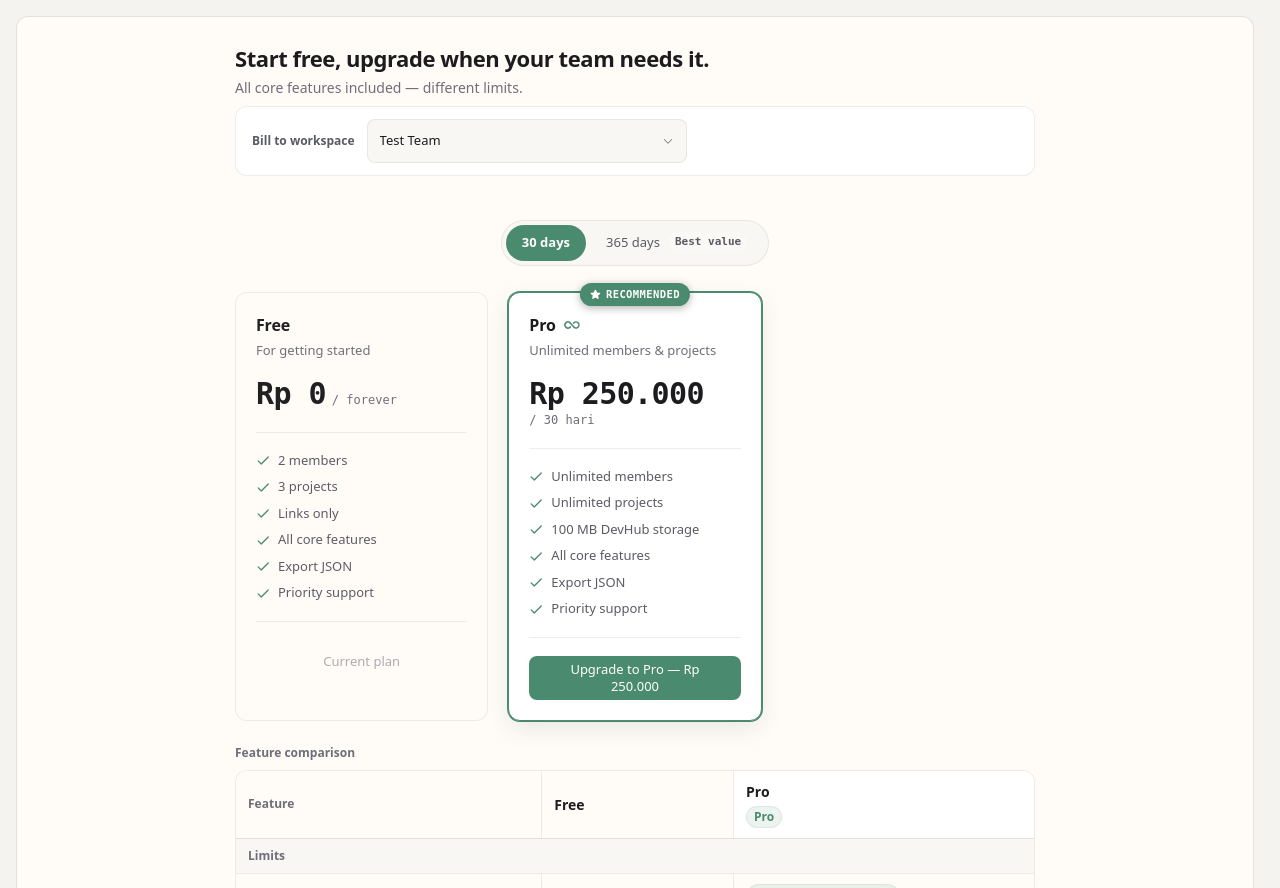
Test case: PricingPage (single-page flow) › creates the order only after confirming in the modal, then redirects
This screenshot has width=1280, height=888.
Expected: the heading "Pro" is shown, [529, 314, 580, 336]
Click the button "Upgrade to Pro — Rp 250.000". click: (635, 678)
box: [529, 656, 741, 700]
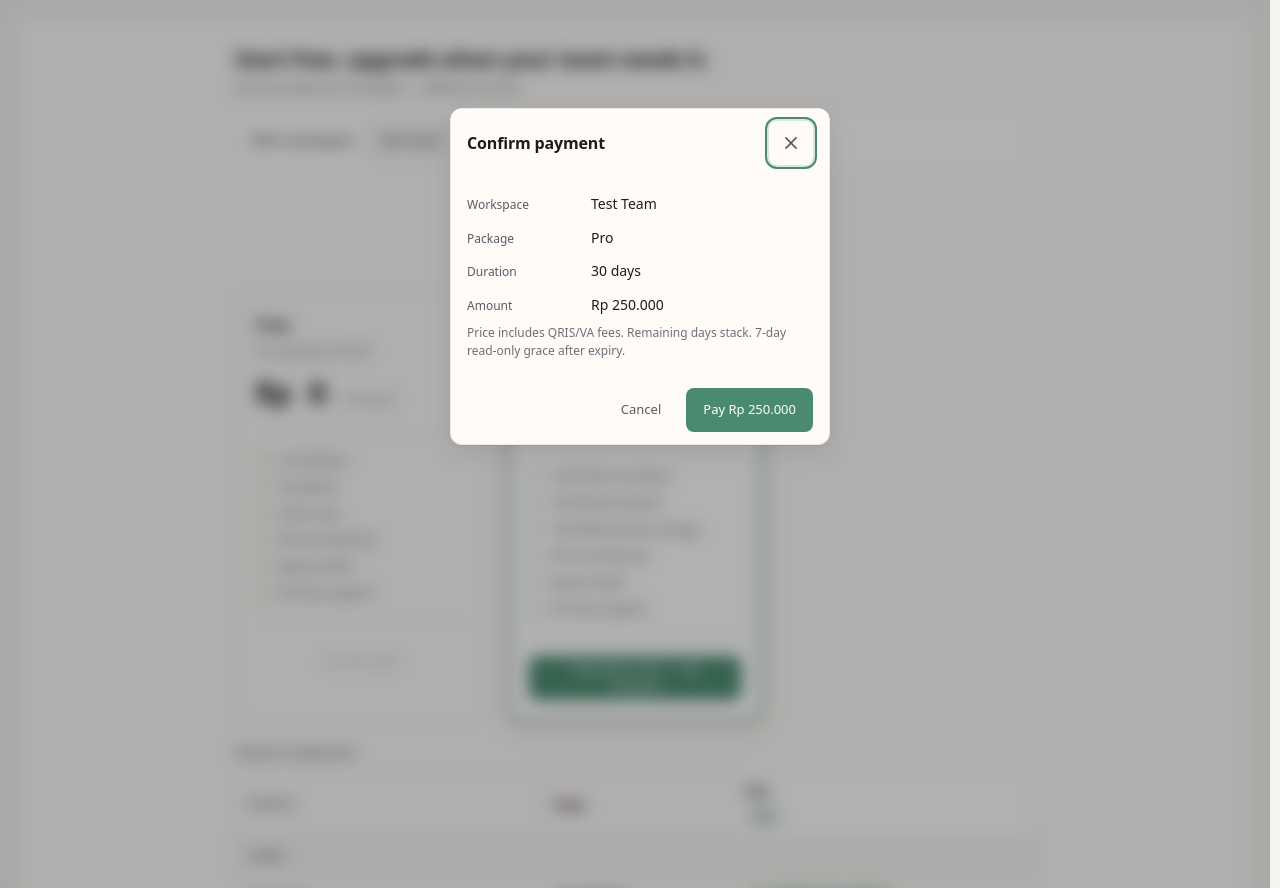
Now the heading "Confirm payment" is shown, box [467, 133, 605, 153]
Click the button "Pay Rp 250.000". click: (750, 410)
box: [686, 388, 813, 432]
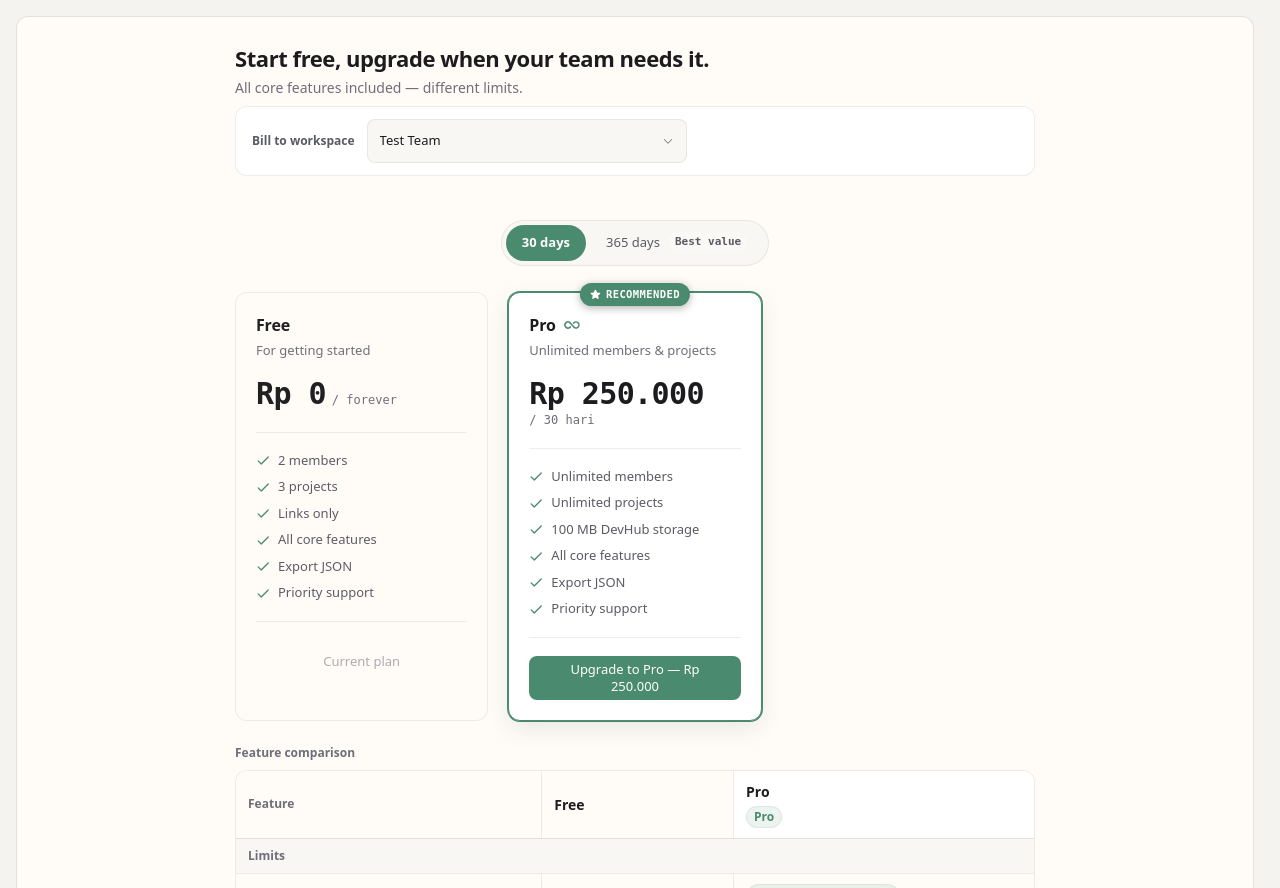
Now the heading "Confirm payment" is gone
